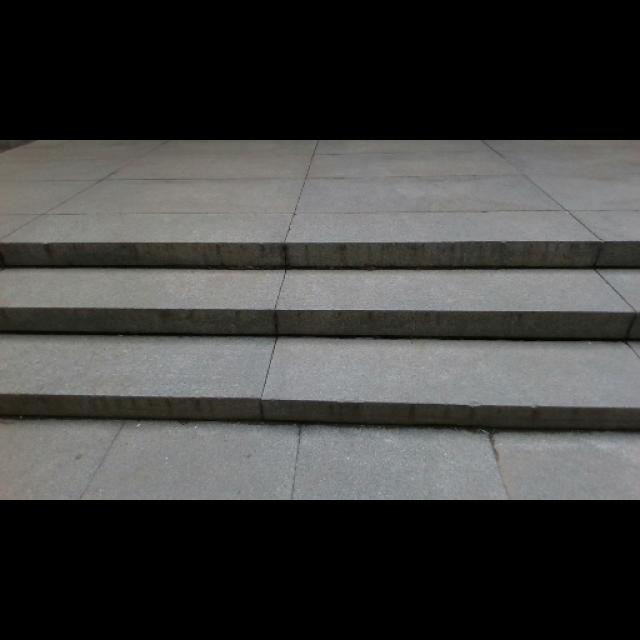Stairs: (0, 239, 639, 430)
